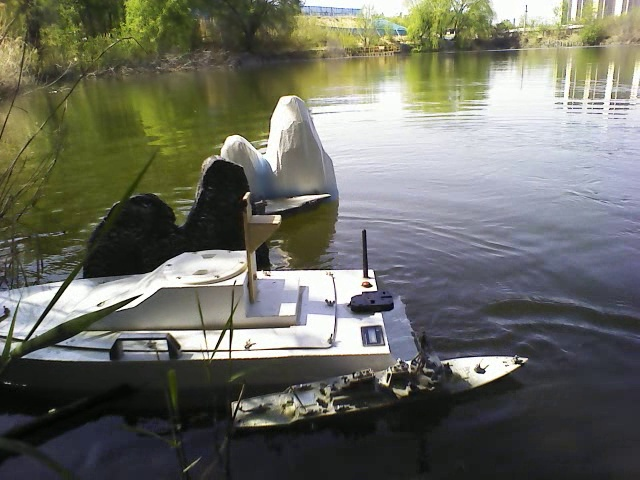aircraft_carrier: (253, 188, 331, 217)
boat: (3, 254, 400, 398)
iceberg: (220, 91, 336, 197)
rock: (67, 155, 268, 271)
warship: (225, 354, 536, 436)
